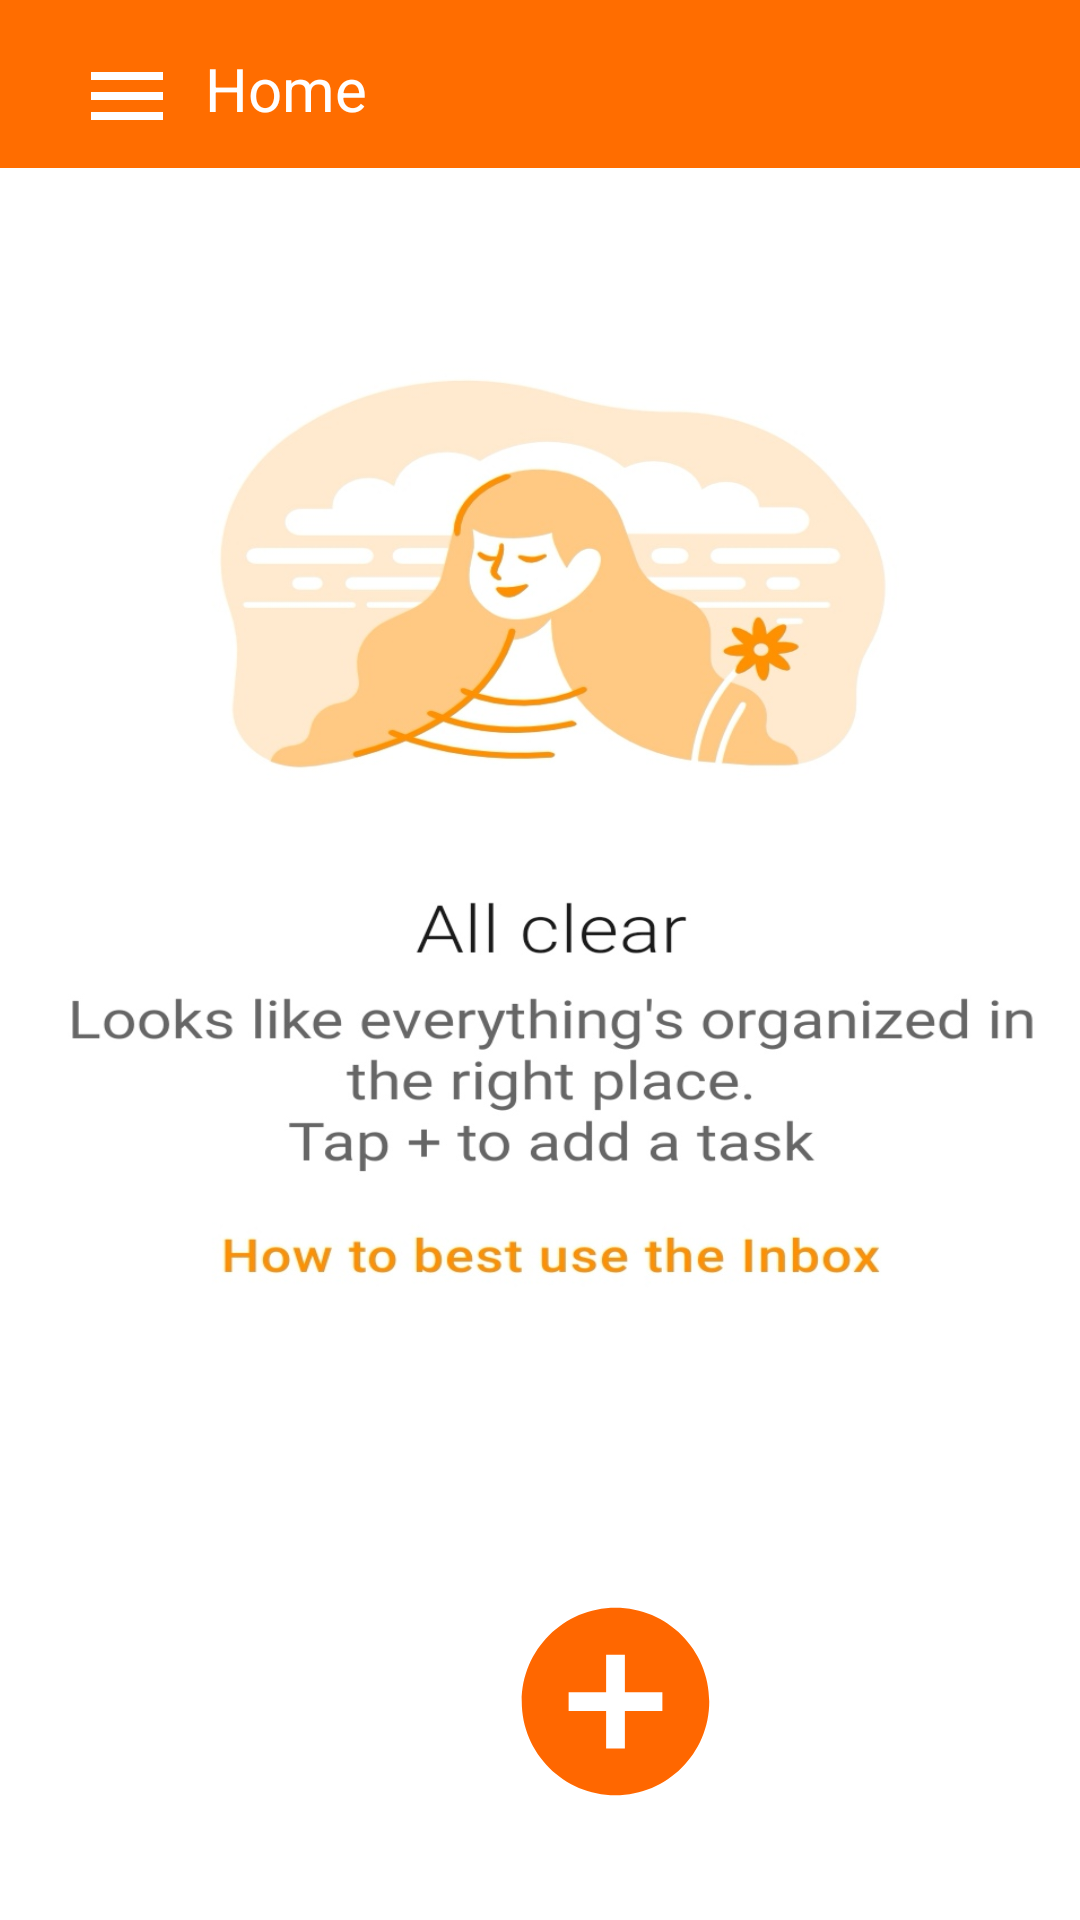

Icons on this 1080w x 1920h Android screen, each with the point to tap as (x=x, y=y):
menu: (x=127, y=96)
newactivity: (x=615, y=1701)
